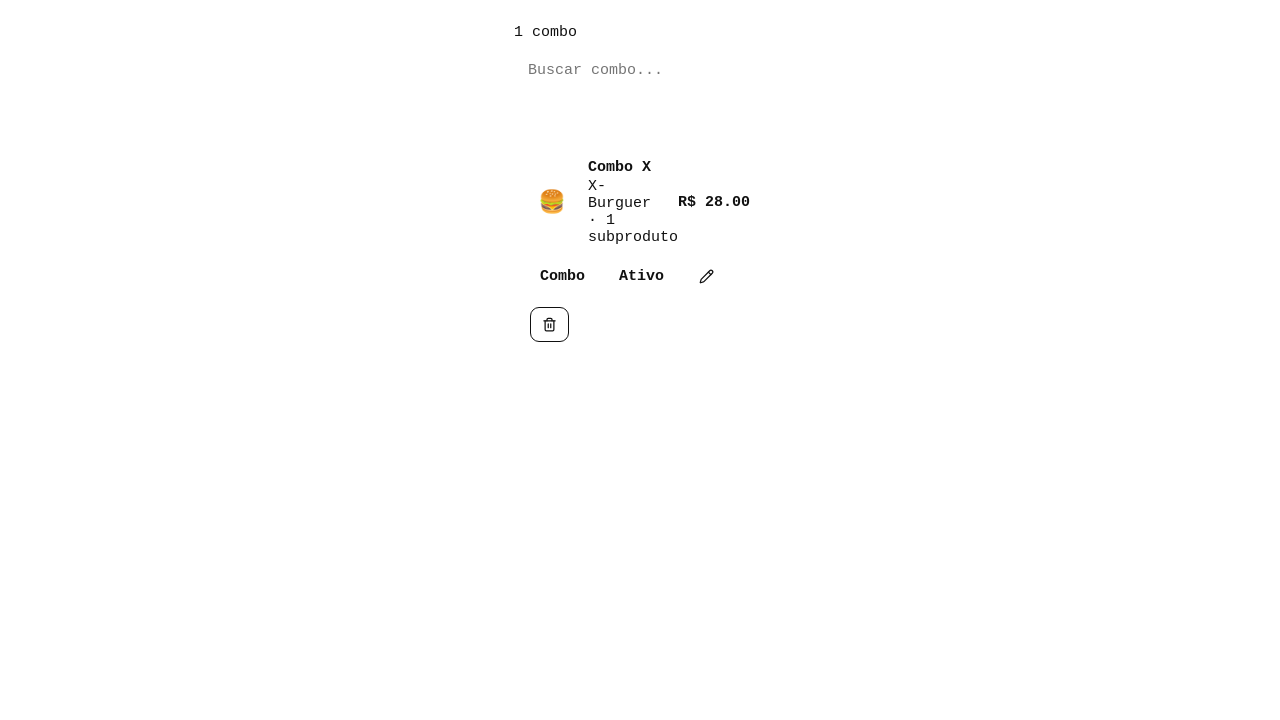
CombosView, editar combo (B2) › falha ao apagar os subprodutos antigos interrompe o salvamento (sem duplicar a composição)
Expected: the text "Combo X" is shown, [588, 159, 651, 176]
Click the button titled "Editar combo". click: (706,276)
box: [688, 260, 725, 293]
(page scrolled)
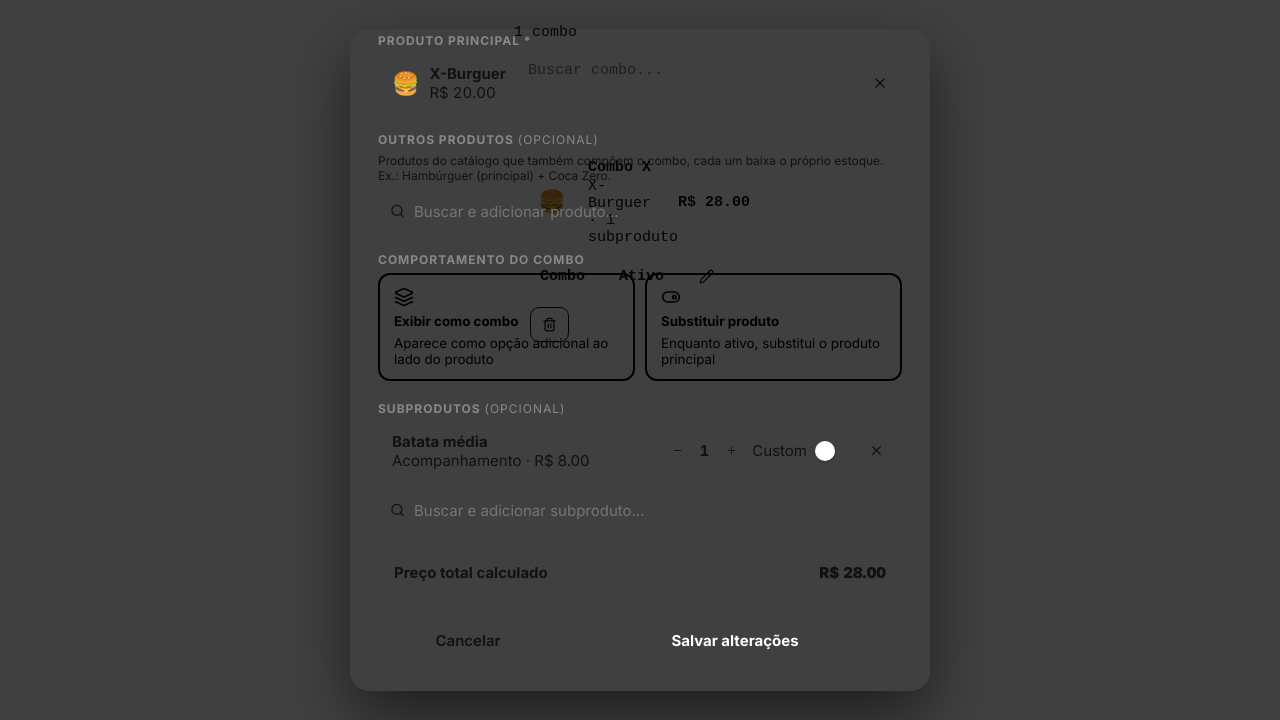
Expected: the text "Batata média" is shown, [392, 432, 488, 451]
Click the button "Salvar alterações". click: (735,640)
box: [568, 618, 902, 663]
(page scrolled)
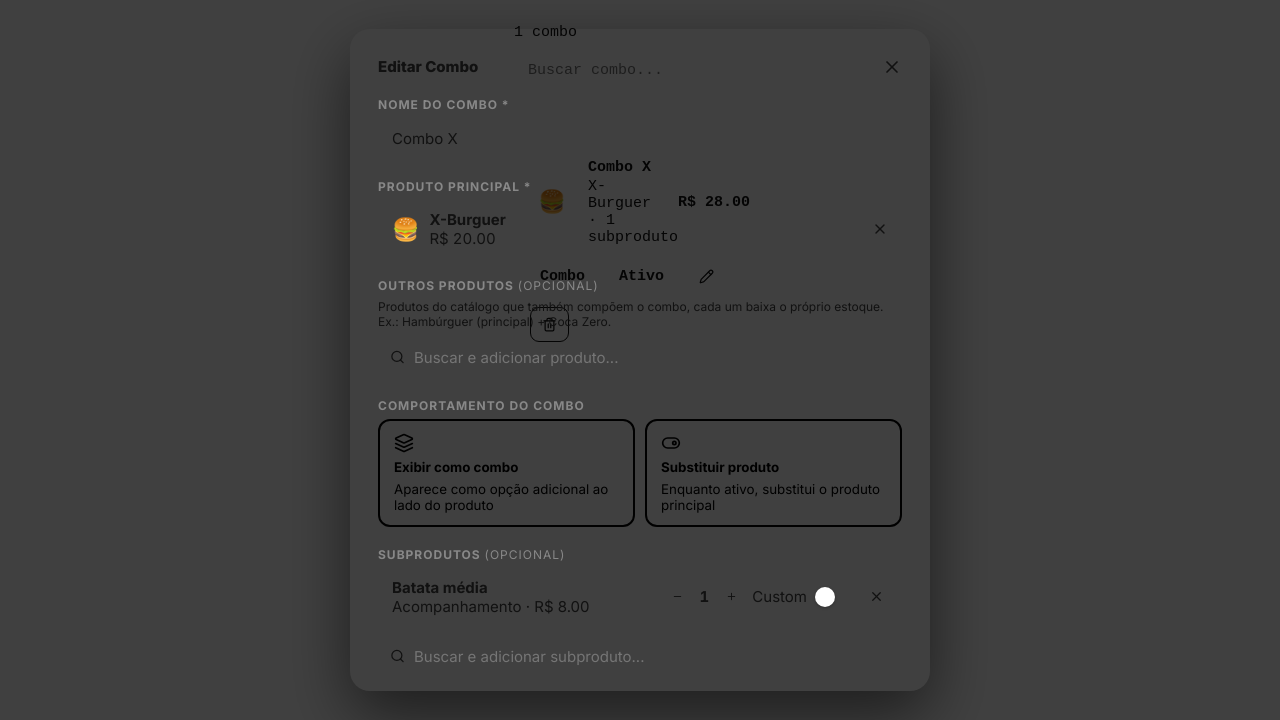
Expected: the text "Editar Combo" is shown, [378, 57, 478, 76]
